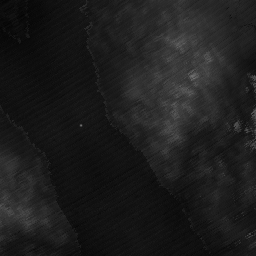Target: (77, 121, 84, 128)
